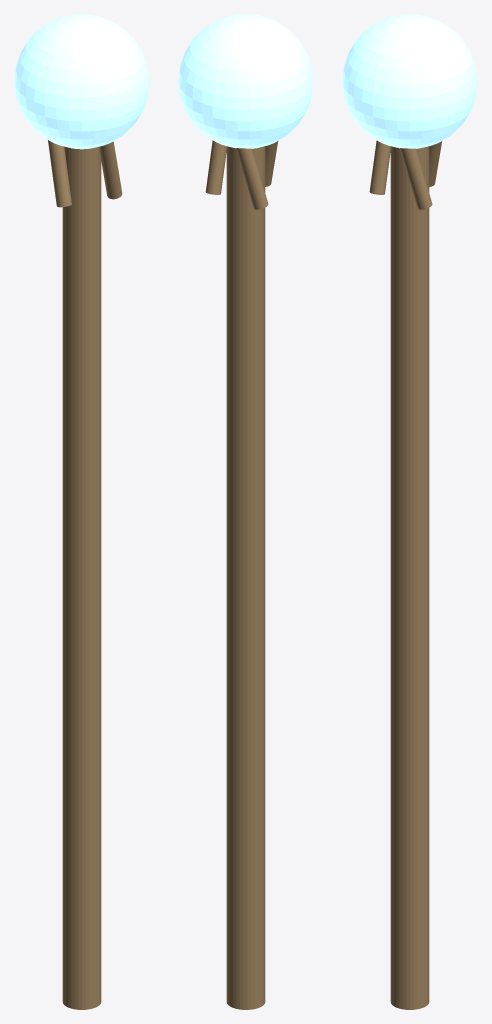
Rendered from staff.glb.
3 renders of one model, left to right at view 1: azimuth 90°, elevation 25°; view 2: azimuth 150°, elevation 25°; view 3: azimuth 270°, elevation 25°, orthographic.
Visible parts, largest first — view 1: Shaft, Orb, Prong120, Prong240; view 2: Shaft, Orb, Prong120, Prong0, Prong240; view 3: Shaft, Orb, Prong0, Prong240, Prong120.
Boxes of the visible parts, x1,y1,x2,y2 form: Shaft: [62, 146, 101, 1009]; Orb: [14, 14, 149, 149]; Prong120: [48, 140, 71, 207]; Prong240: [99, 141, 122, 199]; Shaft: [226, 146, 265, 1009]; Orb: [178, 14, 313, 148]; Prong120: [236, 148, 268, 209]; Prong0: [205, 140, 226, 194]; Prong240: [265, 141, 278, 186]; Shaft: [390, 146, 429, 1009]; Orb: [342, 14, 477, 148]; Prong0: [400, 148, 432, 209]; Prong240: [369, 140, 390, 194]; Prong120: [429, 141, 441, 186].
Size of the model in its own units: 0.14 by 1.12 by 0.14.
